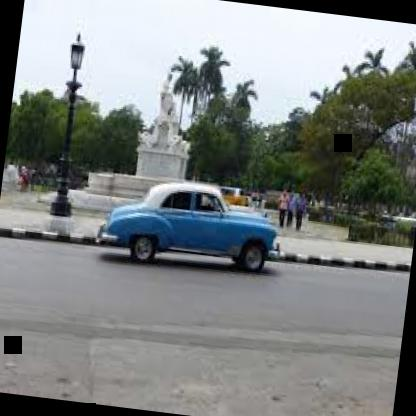car: (94, 166, 288, 290)
